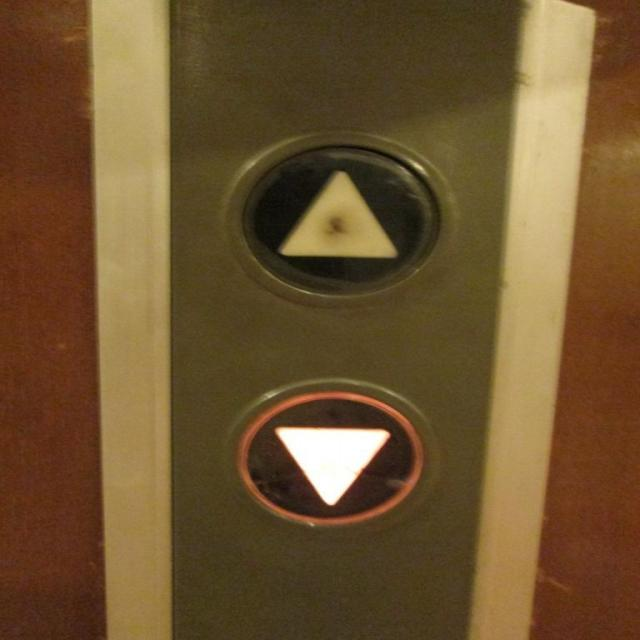down: (223, 377, 442, 537)
up: (222, 131, 456, 308)
